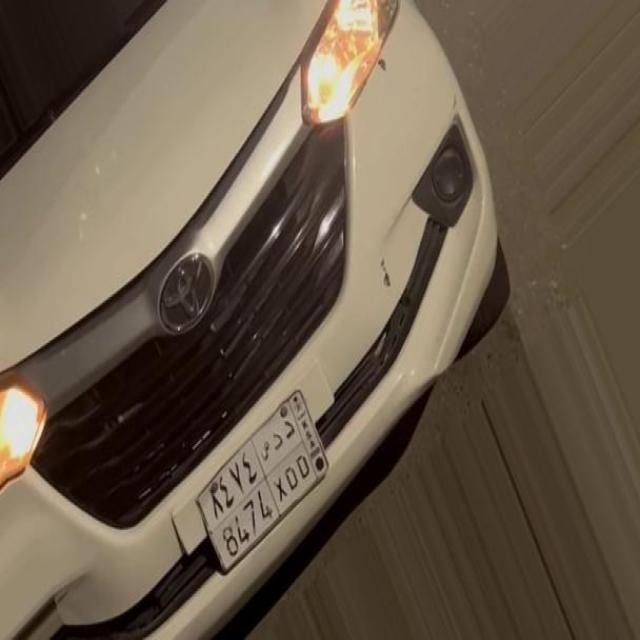Car-plate: (175, 351, 351, 606)
